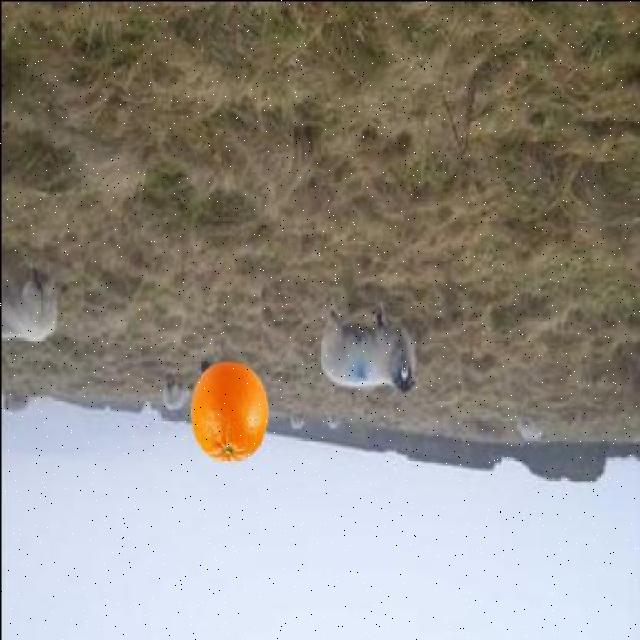Orange: (189, 358, 269, 462)
